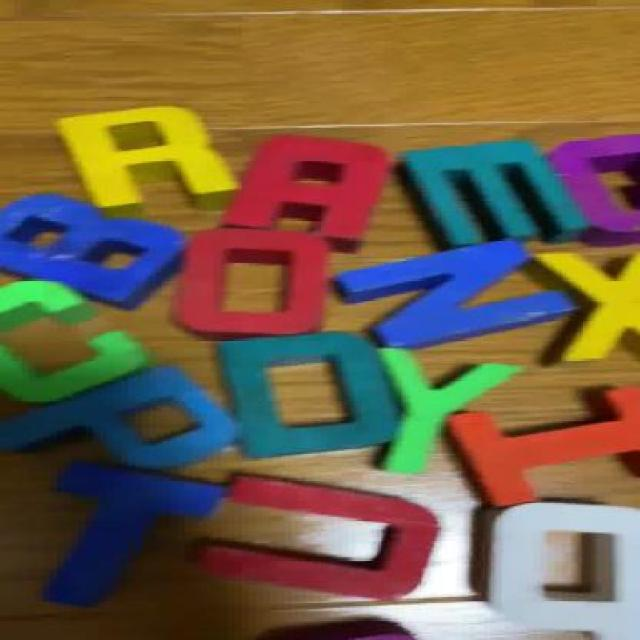A: (241, 136, 394, 239)
B: (8, 192, 180, 302)
D: (234, 338, 397, 459)
I: (441, 390, 639, 510)
M: (412, 140, 573, 246)
N: (343, 248, 577, 334)
O: (168, 228, 324, 344)
P: (473, 498, 639, 636), (8, 374, 240, 468)
R: (54, 100, 237, 212)
T: (39, 466, 216, 603)
U: (213, 475, 433, 591)
Y: (374, 346, 538, 472)
